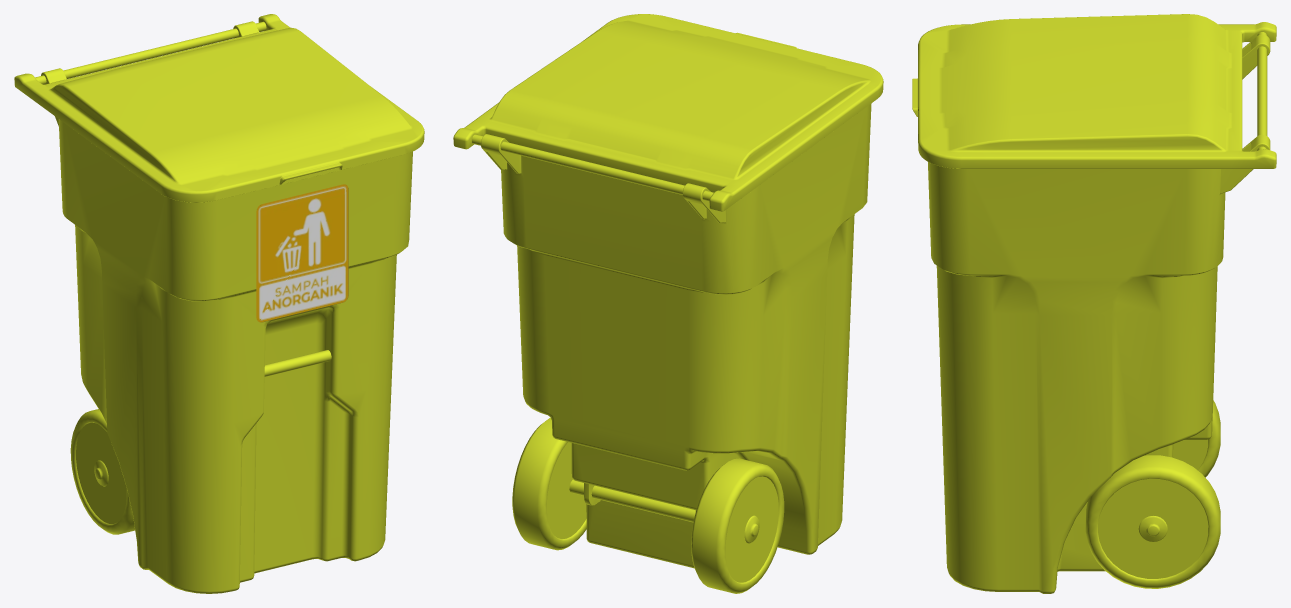
Rendered from kuning.fbx.
The picture shows the model from 3 angles, left to right: view 1: azimuth 30°, elevation 25°; view 2: azimuth 150°, elevation 25°; view 3: azimuth 270°, elevation 25°; orthographic projection. The views are drawn at different scales.
Parts seen in each view (by area): view 1: can_garbage_base_realistic_lod0, Empty.001; view 2: can_garbage_base_realistic_lod0; view 3: can_garbage_base_realistic_lod0.
Part boxes in pixels (box(x1,y1,x2,y2)): can_garbage_base_realistic_lod0: box(14, 14, 424, 593); Empty.001: box(256, 184, 348, 322); can_garbage_base_realistic_lod0: box(453, 14, 883, 593); can_garbage_base_realistic_lod0: box(912, 14, 1276, 593).
Size of the model in its own units: 91.98 by 149 by 105.
Materials: 2 (1 with a texture image).
